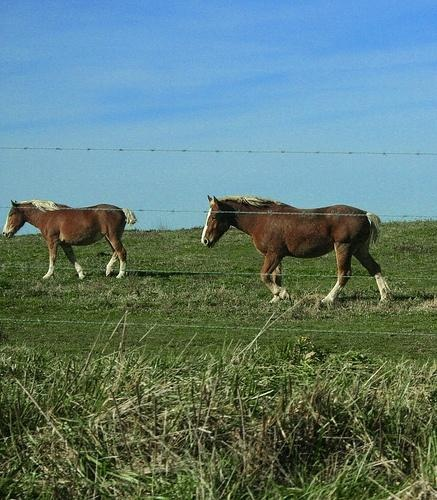horse: (199, 195, 396, 308), (3, 198, 139, 284)
